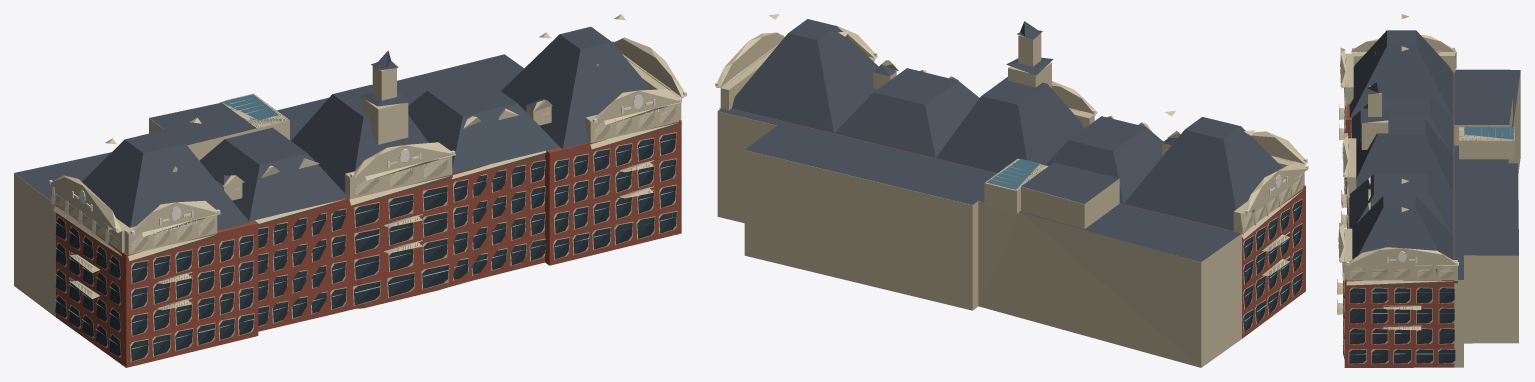
Rendered from de-bijenkorf.lod1.glb.
The picture shows the model from 3 angles, left to right: view 1: azimuth 30°, elevation 25°; view 2: azimuth 150°, elevation 25°; view 3: azimuth 270°, elevation 25°; orthographic projection. The views are drawn at different scales.
Visible parts, largest first — view 1: de-bijenkorf; view 2: de-bijenkorf; view 3: de-bijenkorf.
Part boxes in pixels (x1,y1,x2,y2): de-bijenkorf: (14, 14, 686, 367); de-bijenkorf: (715, 14, 1308, 367); de-bijenkorf: (1337, 14, 1520, 367).
Bounding box in the file's own units: 115 × 44.96 × 40.96.
